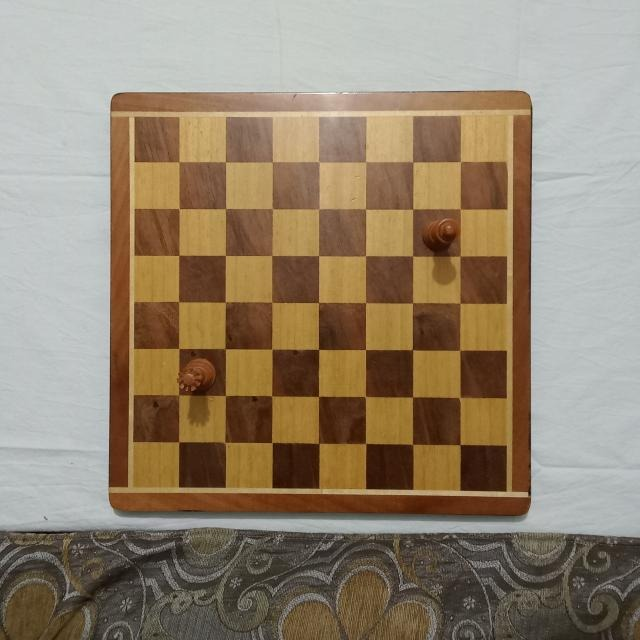white-king: (421, 216, 459, 252)
white-queen: (177, 357, 219, 393)
